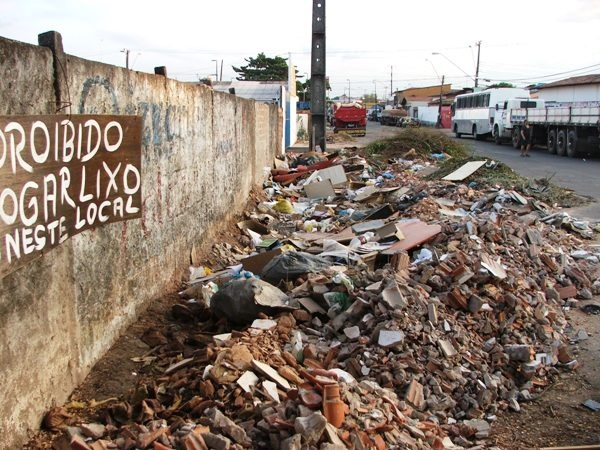rubble: (239, 153, 578, 435)
